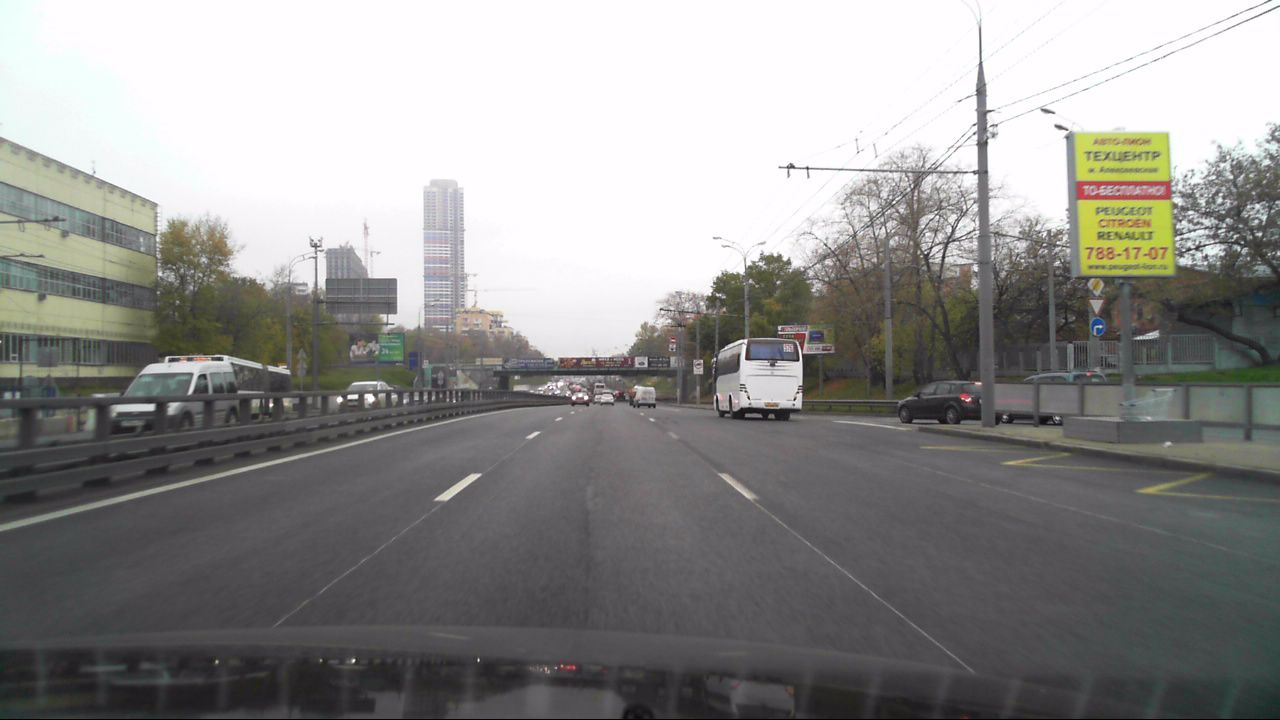main road: (1086, 274, 1104, 296)
